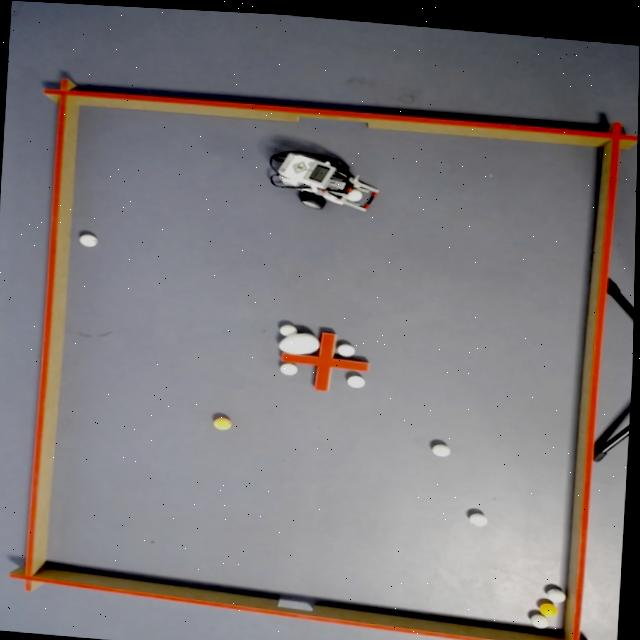boundaries: (7, 75, 638, 640), (45, 104, 600, 635)
cross: (281, 331, 370, 391)
egg: (277, 330, 321, 355)
large_goal: (286, 105, 382, 129)
orange_ball: (213, 415, 233, 430), (539, 601, 557, 616)
robot: (265, 145, 381, 213)
small_goal: (266, 595, 323, 618)
white_ball: (529, 613, 550, 629), (546, 586, 566, 602), (468, 510, 488, 526), (431, 441, 451, 457), (346, 373, 366, 388), (79, 231, 99, 246), (336, 341, 355, 356), (279, 360, 299, 374), (279, 322, 297, 336)
